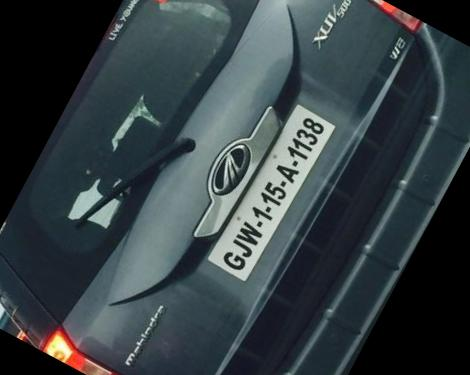plate: (186, 76, 369, 305)
